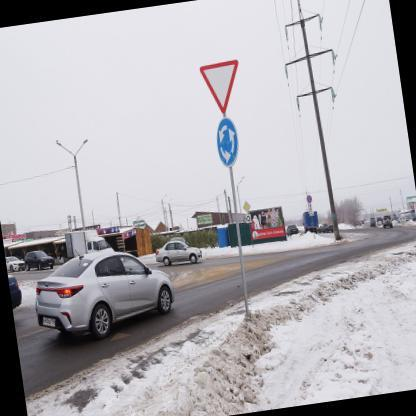road_sign: (200, 59, 238, 115), (217, 117, 238, 167)
